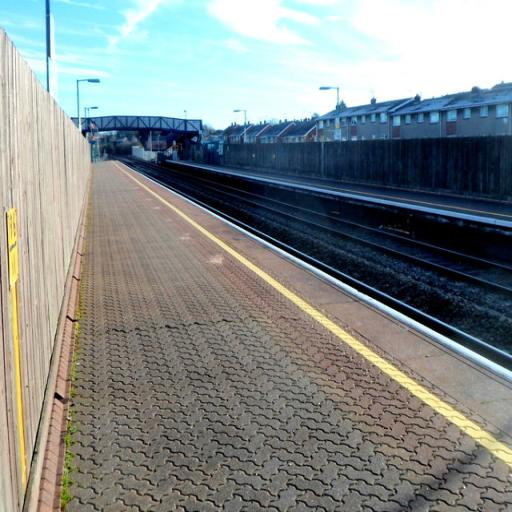platform_edge: (246, 252, 512, 466), (150, 189, 263, 256), (115, 157, 156, 188)
